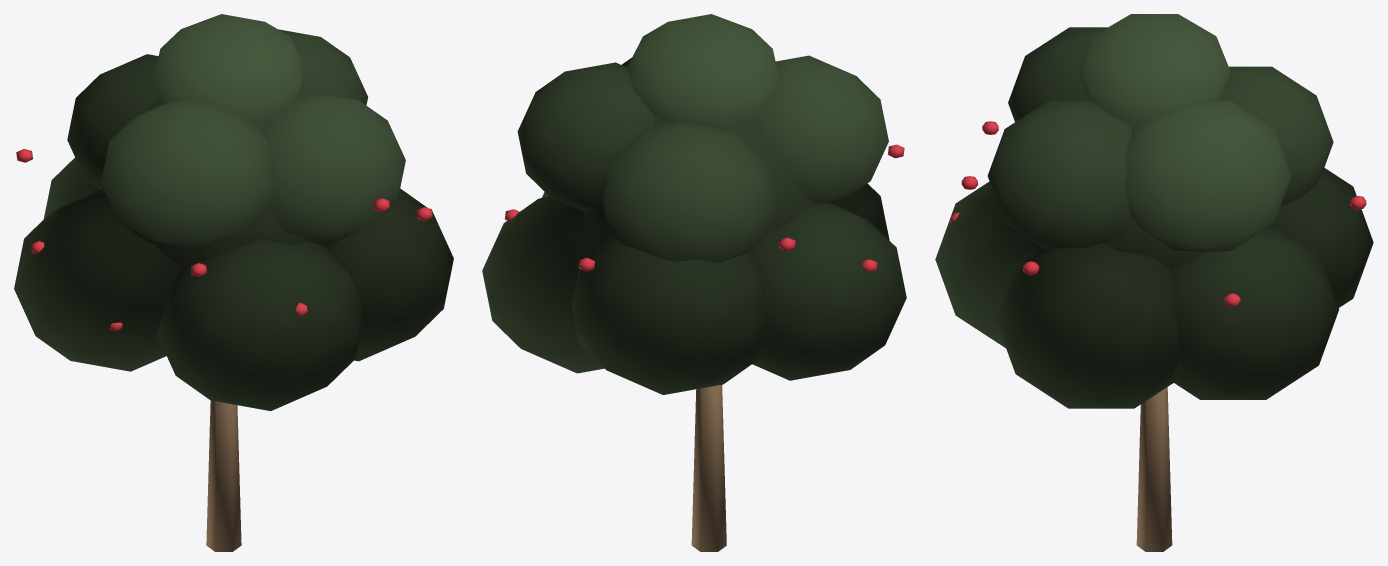
The model's file is scatter5.fbx.
The picture shows the model from 3 angles, left to right: view 1: azimuth 30°, elevation 25°; view 2: azimuth 150°, elevation 25°; view 3: azimuth 270°, elevation 25°; orthographic projection.
Parts seen in each view (by area): view 1: a2000/200/scatter5; view 2: a2000/200/scatter5; view 3: a2000/200/scatter5.
Boxes of the visible parts, left/top/right/bottom form: a2000/200/scatter5: left=14, top=14, right=453, bottom=551; a2000/200/scatter5: left=482, top=14, right=906, bottom=551; a2000/200/scatter5: left=935, top=14, right=1373, bottom=551.
Bounding box in the file's own units: 3.2 × 4.25 × 3.2.
